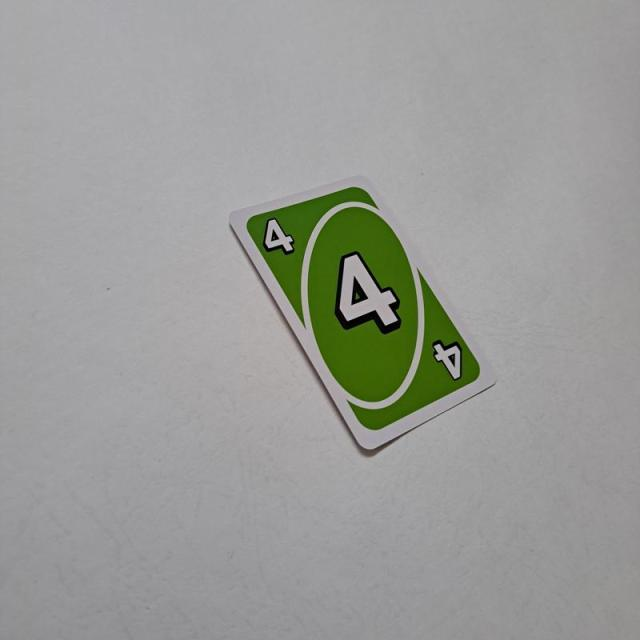Green_Card: (243, 180, 486, 438)
Number_4: (256, 214, 302, 259)
